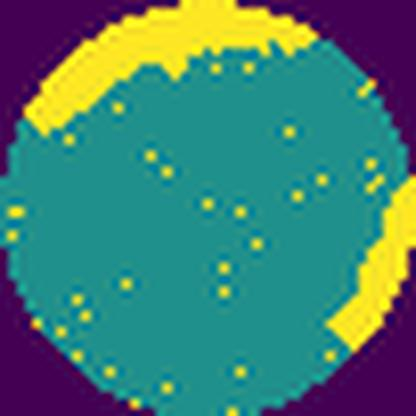Edge-Loc: (21, 0, 322, 139), (323, 171, 415, 357)
